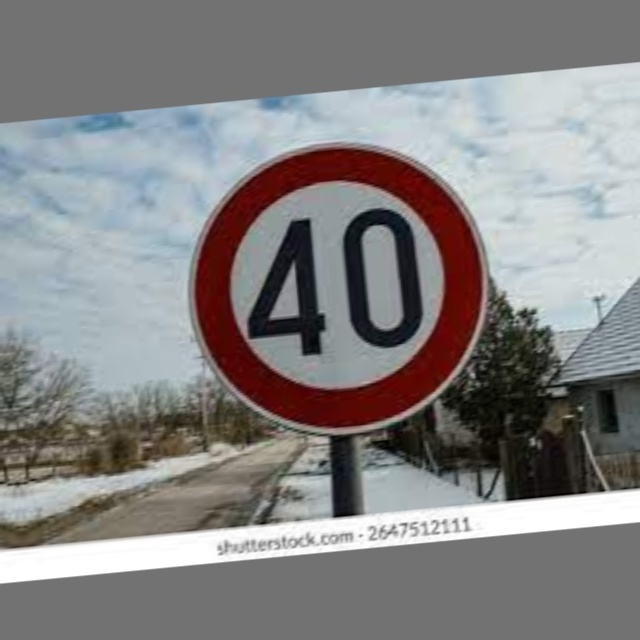Speed_Limit_40: (188, 133, 498, 440)
